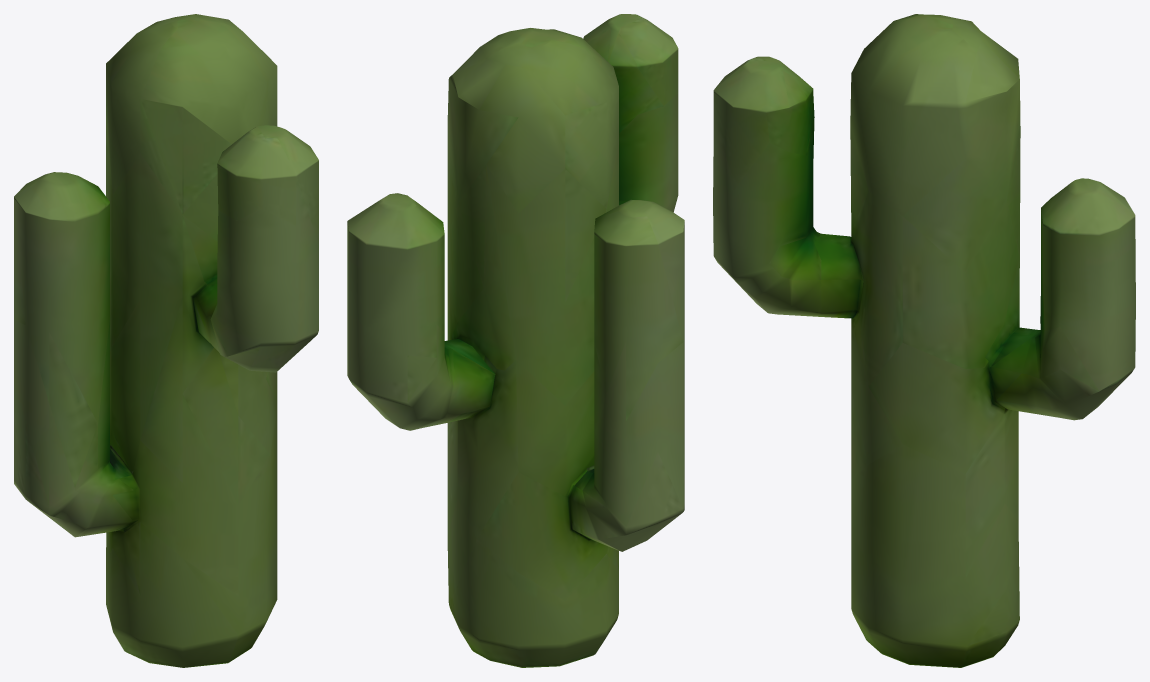
Rendered from cactus.glb.
The picture shows the model from 3 angles, left to right: view 1: azimuth 30°, elevation 25°; view 2: azimuth 150°, elevation 25°; view 3: azimuth 270°, elevation 25°; orthographic projection. The views are drawn at different scales.
Parts seen in each view (by area): view 1: tripo_node_76f77d68-3cbb-447b-a34d-72aa9d050562; view 2: tripo_node_76f77d68-3cbb-447b-a34d-72aa9d050562; view 3: tripo_node_76f77d68-3cbb-447b-a34d-72aa9d050562.
Part boxes in pixels (bbox=[...]): tripo_node_76f77d68-3cbb-447b-a34d-72aa9d050562: bbox=[14, 14, 318, 667]; tripo_node_76f77d68-3cbb-447b-a34d-72aa9d050562: bbox=[347, 14, 684, 667]; tripo_node_76f77d68-3cbb-447b-a34d-72aa9d050562: bbox=[713, 14, 1135, 667].
Size of the model in its own units: 0.4568 by 1 by 0.6229.
1 material, 1 textured.
